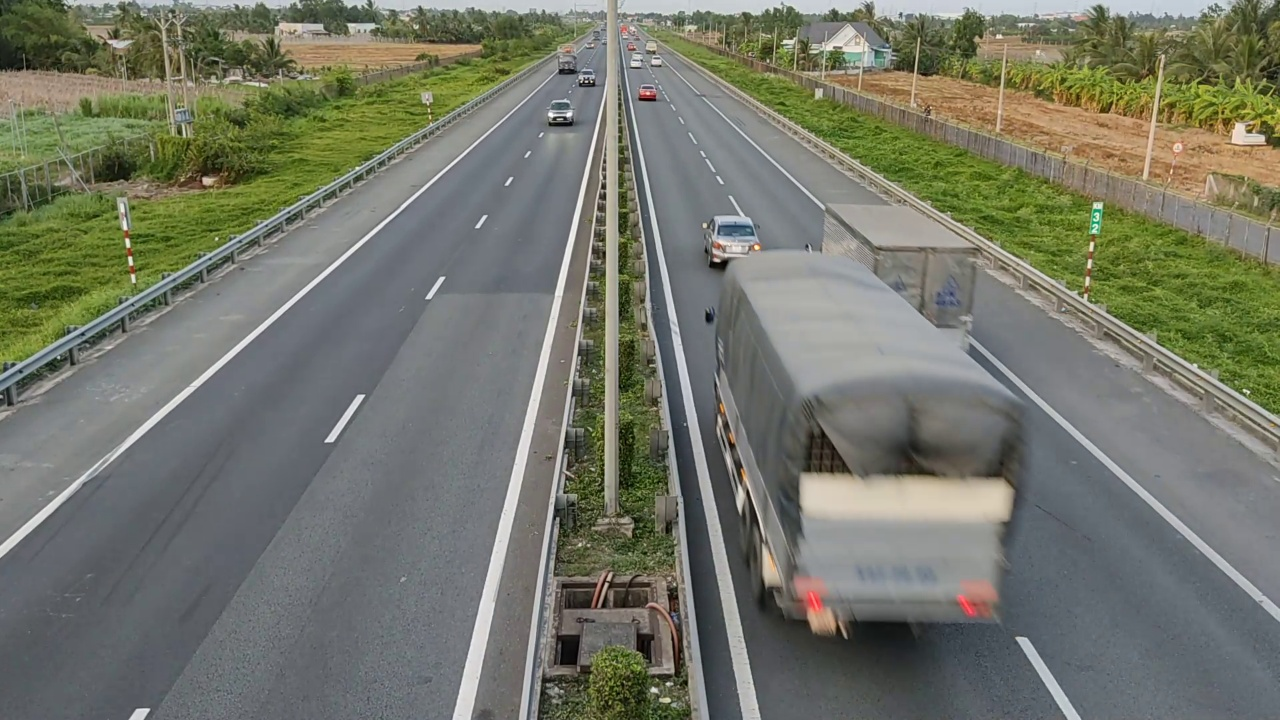car: (702, 215, 762, 267), (546, 98, 576, 126), (637, 83, 659, 101), (577, 69, 597, 85)
truck: (712, 249, 1031, 640)
